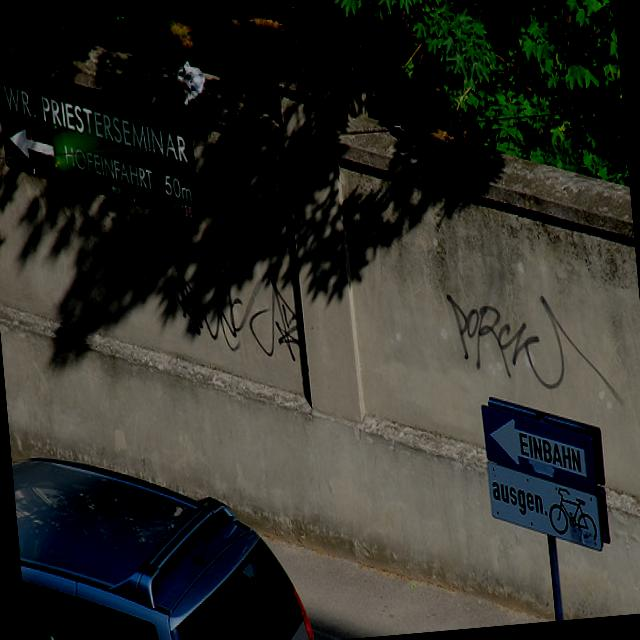Vehicle: (10, 426, 316, 640)
